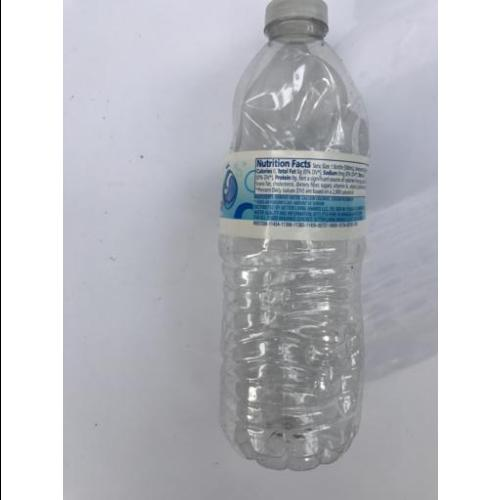plastic: (217, 0, 373, 472)
